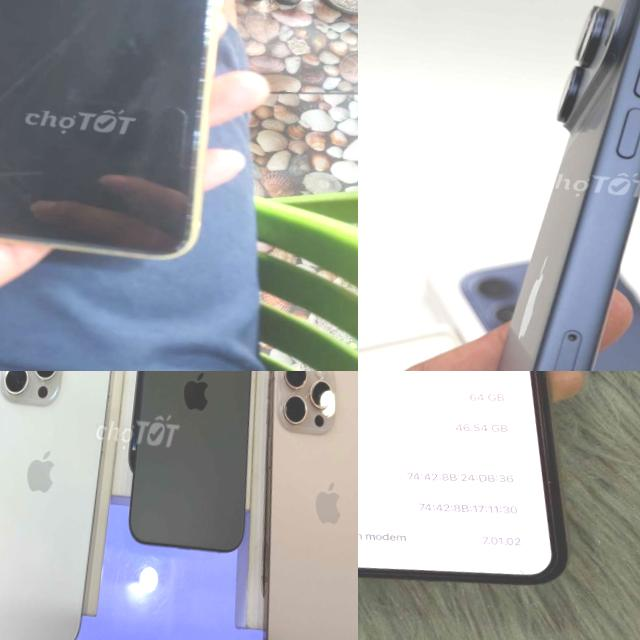scratch: (164, 0, 236, 258)
